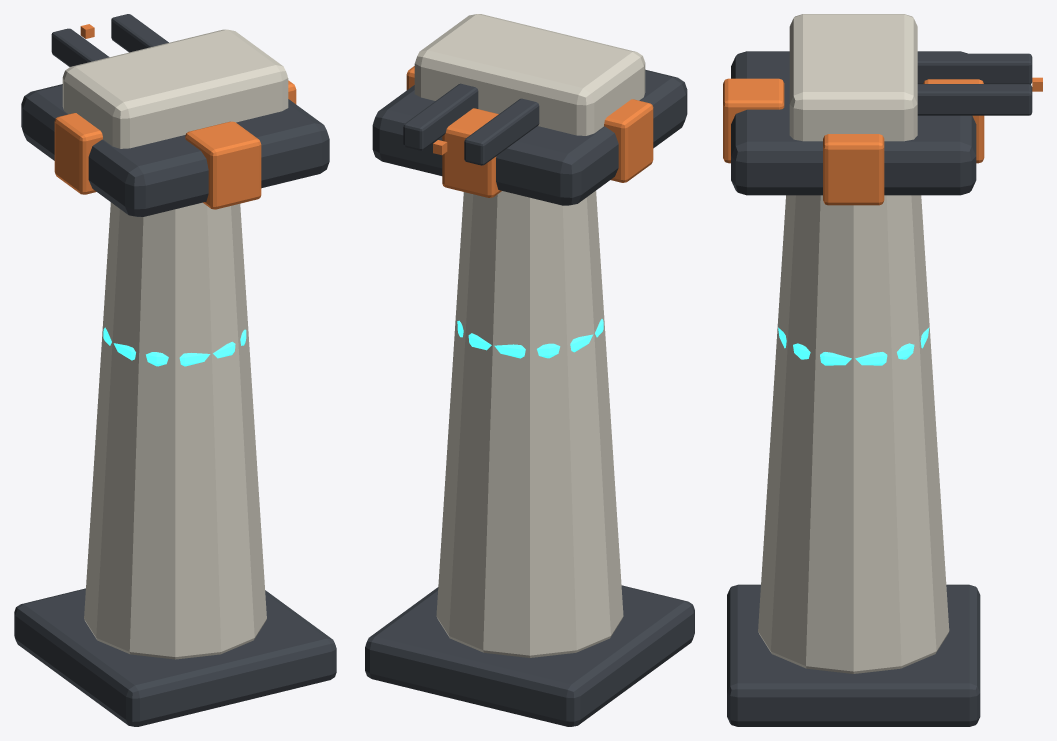
Rendered from human_tower_t3.glb.
3 views of the same model, side by side, from view 1: azimuth 30°, elevation 25°; view 2: azimuth 150°, elevation 25°; view 3: azimuth 270°, elevation 25° (orthographic). The views are drawn at different scales.
Visible parts, largest first — view 1: armored_shaft, foundation, turret_housing, gun_deck, reactive_armor.003, reactive_armor.002, weapon, weapon.001, sensor_band; view 2: armored_shaft, foundation, turret_housing, gun_deck, reactive_armor.001, reactive_armor.002, weapon, weapon.001, sensor_band; view 3: armored_shaft, foundation, turret_housing, gun_deck, reactive_armor, weapon.001, weapon, reactive_armor.003, sensor_band, reactive_armor.001.
Boxes of the visible parts, box(x1,y1,x2,y2) form: armored_shaft: box(84, 202, 266, 659); foundation: box(14, 588, 336, 726); turret_housing: box(62, 29, 288, 148); gun_deck: box(21, 84, 329, 216); reactive_armor.003: box(185, 121, 261, 209); reactive_armor.002: box(54, 113, 102, 194); weapon: box(51, 28, 109, 66); weapon.001: box(111, 14, 168, 52); sensor_band: box(103, 327, 246, 366); armored_shaft: box(436, 191, 623, 657); foundation: box(365, 585, 694, 726); turret_housing: box(414, 14, 645, 135); gun_deck: box(372, 69, 687, 205); reactive_armor.001: box(442, 108, 501, 197); reactive_armor.002: box(604, 99, 653, 182); weapon: box(464, 98, 539, 165); weapon.001: box(403, 83, 478, 150); sensor_band: box(457, 319, 603, 358); armored_shaft: box(758, 195, 949, 673); foundation: box(727, 584, 980, 726); turret_housing: box(789, 14, 917, 141); gun_deck: box(731, 51, 976, 195); reactive_armor: box(823, 134, 884, 205); weapon.001: box(917, 84, 1032, 115); weapon: box(917, 53, 1032, 84); reactive_armor.003: box(723, 78, 784, 163); sensor_band: box(778, 327, 929, 365); reactive_armor.001: box(923, 79, 984, 163).
Size of the model in its own units: 1.96 by 5.17 by 2.4.
